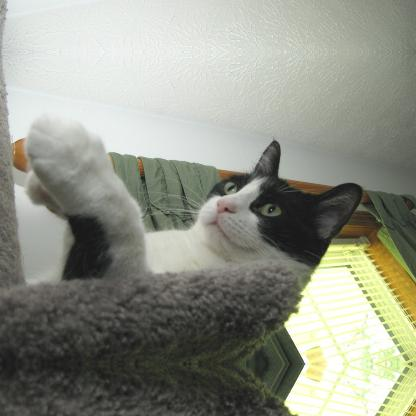Cat: (21, 108, 363, 278)
